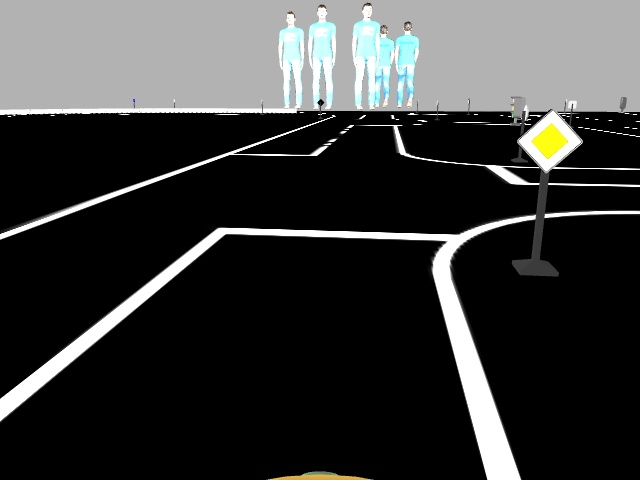Priority: (514, 109, 583, 174)
